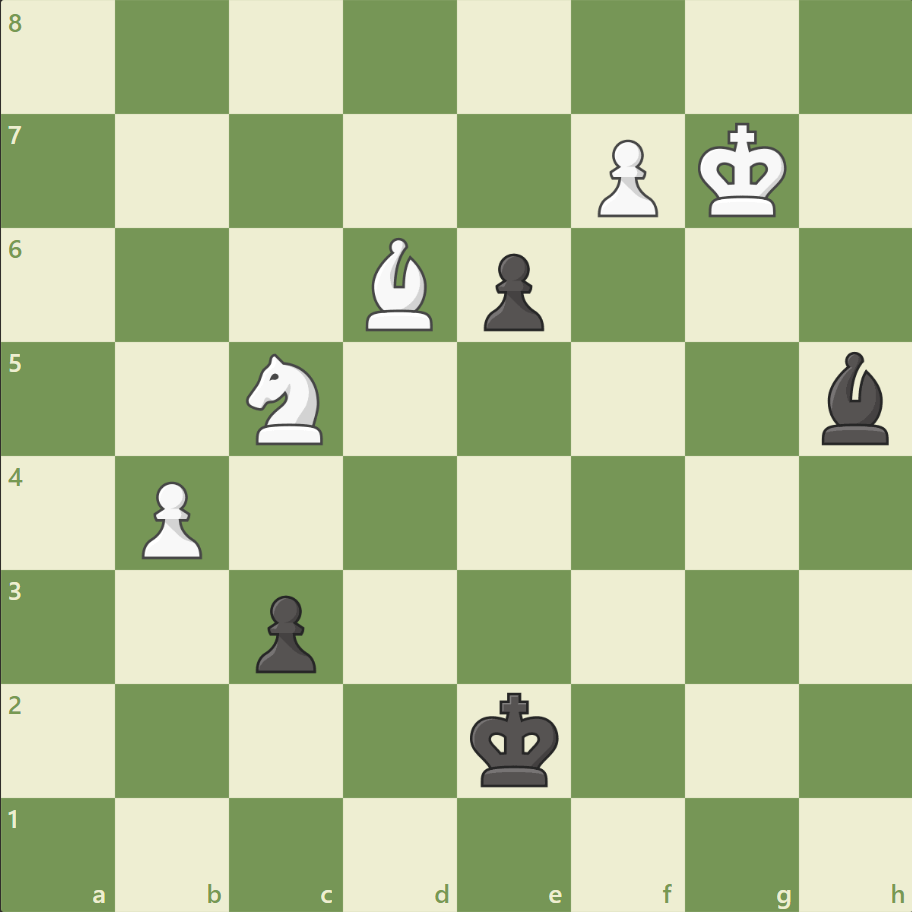B: (358, 233, 442, 336)
K: (692, 117, 792, 225)
N: (238, 348, 335, 450)
P: (133, 473, 208, 564), (588, 132, 662, 223)
b: (812, 347, 896, 449)
k: (465, 685, 565, 793)
p: (474, 246, 549, 337), (247, 586, 322, 677)
